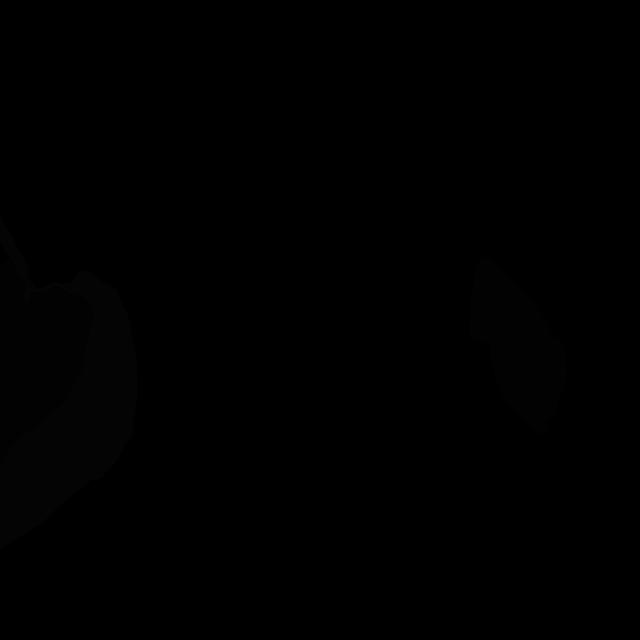cardboard: (0, 257, 94, 465), (469, 256, 567, 435)
soft_plastic: (0, 214, 137, 550)
